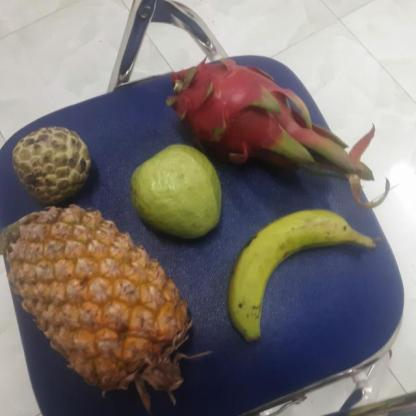annona: (12, 127, 97, 205)
banana: (229, 210, 370, 333)
guava: (130, 145, 225, 239)
pineapple: (12, 212, 196, 386)
pitaya: (173, 57, 299, 167)
